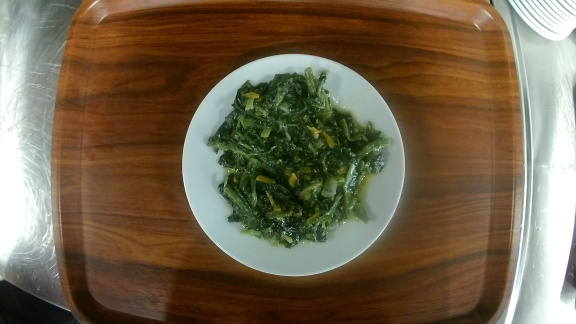ispanak: (173, 52, 409, 278)
